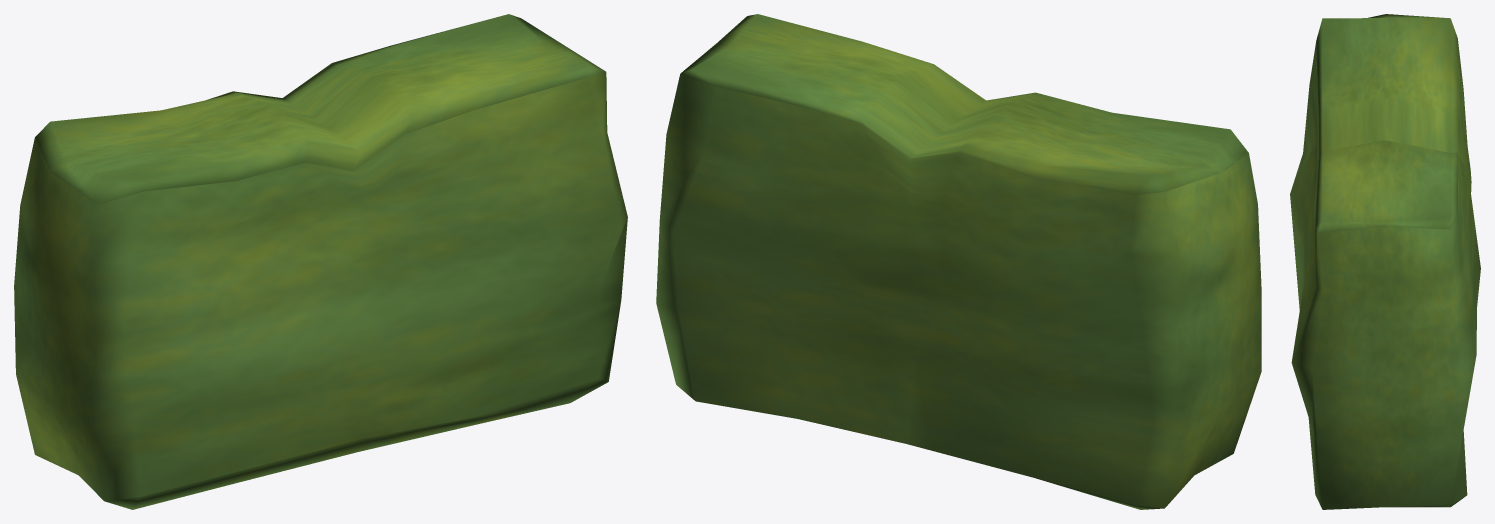
The model's file is HedgeLong_mesh.fbx.
The picture shows the model from 3 angles, left to right: view 1: azimuth 30°, elevation 25°; view 2: azimuth 150°, elevation 25°; view 3: azimuth 270°, elevation 25°; orthographic projection. The views are drawn at different scales.
Visible parts, largest first — view 1: pCube14; view 2: pCube14; view 3: pCube14.
Boxes of the visible parts, box(x1,y1,x2,y2) form: pCube14: box(14, 14, 627, 509); pCube14: box(656, 14, 1261, 509); pCube14: box(1290, 14, 1480, 509).
Bounding box in the file's own units: 231 × 139 × 79.27.
1 material, 1 textured.
